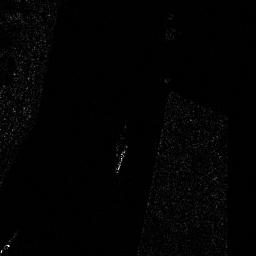ship: (116, 144, 128, 173)
